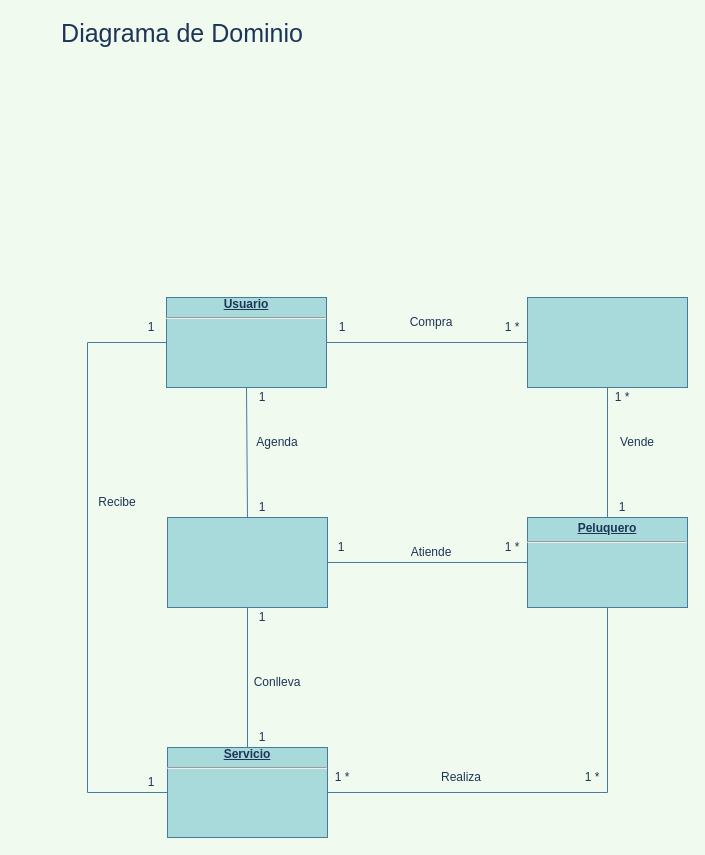
Some shapes in this 705 by 855 pixel diagram are drawn without their labels. The shapes that lost their labels are listed below. From the top down, each one's centre as x and y in pixels, then its label:
(x=607, y=342): Producto
(x=247, y=562): Cita
